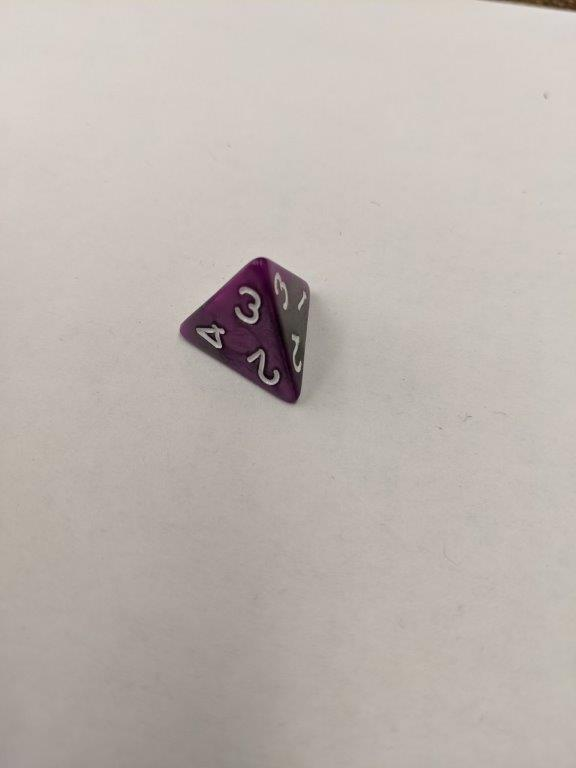d4-3: (175, 254, 311, 405)
